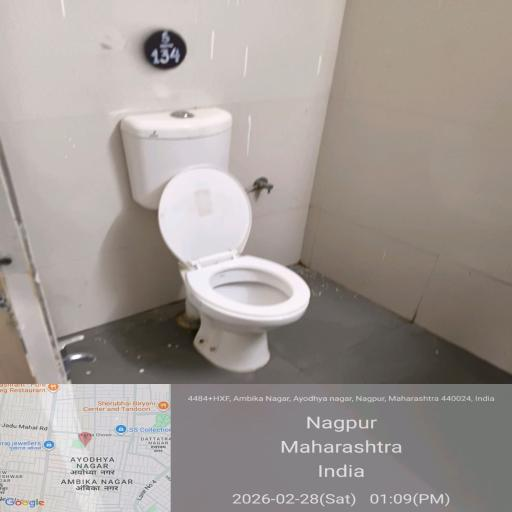clean_floor: (61, 290, 462, 512), (33, 36, 506, 150)
clean_western: (96, 153, 342, 384)
